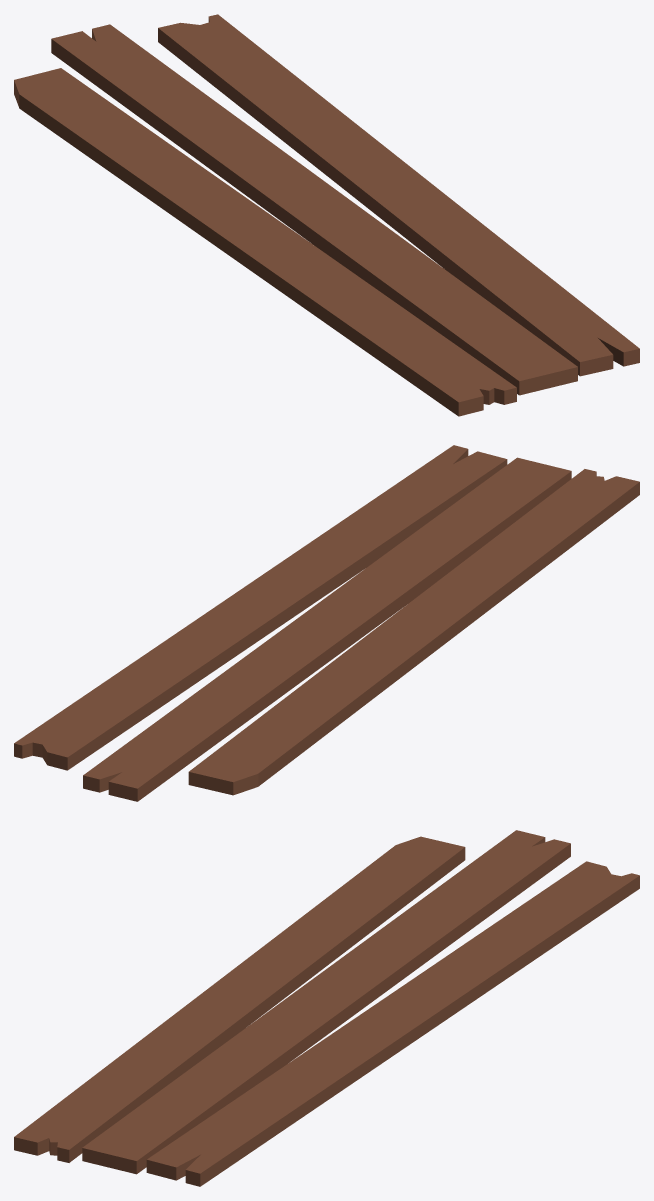
The model's file is LPWarPack_PlankBoards4.fbx.
3 renders of one model, top to bottom at view 1: azimuth 30°, elevation 25°; view 2: azimuth 150°, elevation 25°; view 3: azimuth 330°, elevation 25°, orthographic. The views are drawn at different scales.
Parts seen in each view (by area): view 1: PlankBoards4; view 2: PlankBoards4; view 3: PlankBoards4.
Part boxes in pixels (x1,y1,x2,y2): PlankBoards4: (14,14,639,416); PlankBoards4: (14,445,639,801); PlankBoards4: (14,830,639,1186).
Bounding box in the file's own units: 58.35 × 3.44 × 208.
